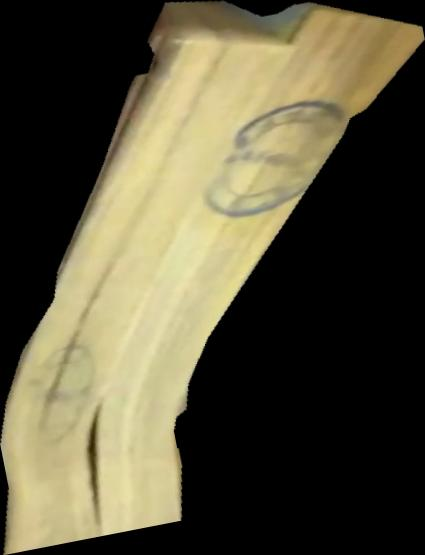backward: (1, 1, 425, 555)
